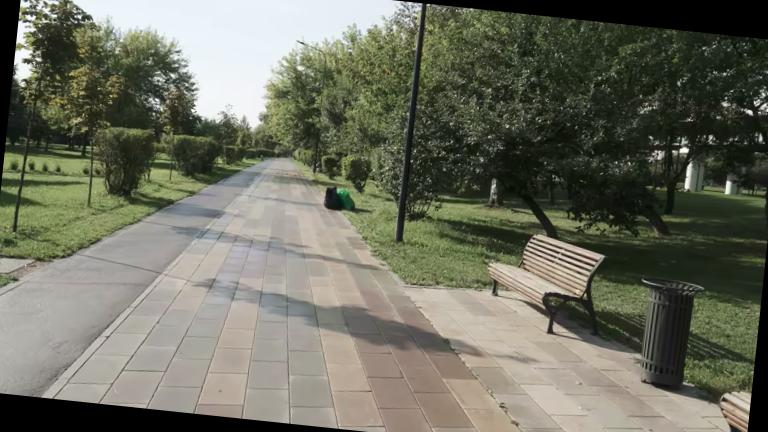trash: (318, 184, 342, 216), (334, 187, 358, 214)
